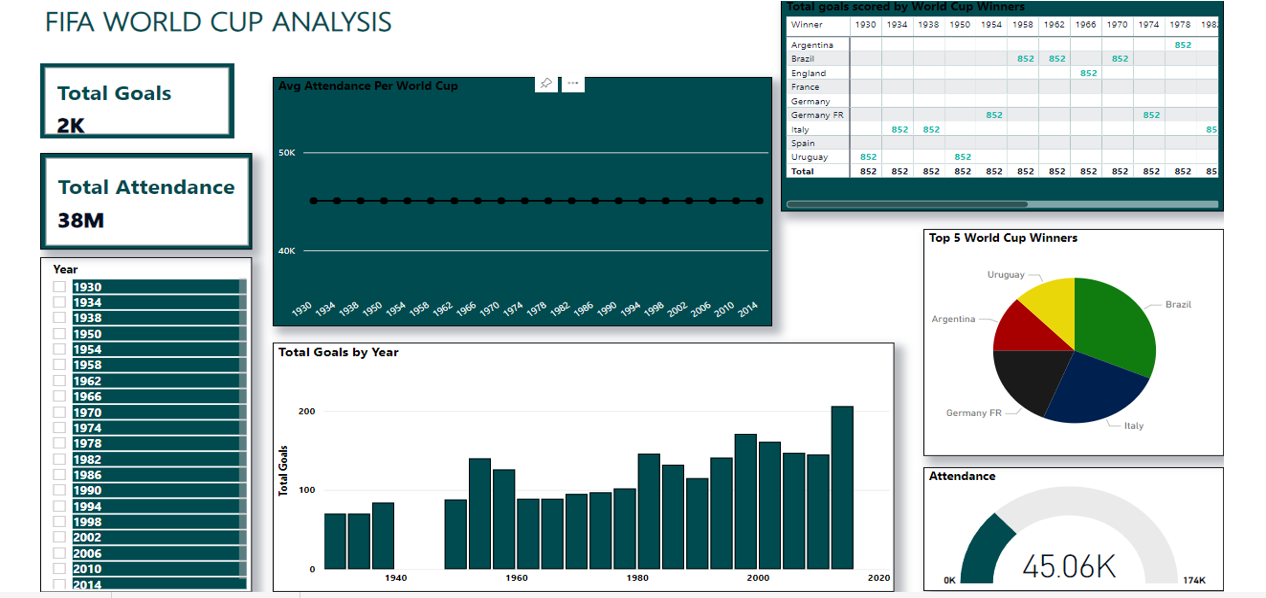

The page's visual inventory and layout, read from the dashboard file:
{"tool":"powerbi","page":{"name":"Page 1","canvas":[1280,720],"ordinal":0},"visuals":[{"type":"columnChart","fields":{"Y":["Sum(matches after cleaning.Total Goals)"],"Category":["matches after cleaning.YearOnly"]},"box":[251.5,417.7,672.2,302.4],"z":0},{"type":"slicer","fields":{"Values":["matches after cleaning.YearOnly"]},"box":[0,314.4,229.1,405.7],"z":1000},{"type":"lineChart","title":"Avg Attendance Per World Cup","fields":{"Category":["WorldCups.Year"],"Y":["Avg(matches after cleaning.Attendance)"]},"box":[251.5,95.8,540.4,302.4],"z":2000},{"type":"pieChart","title":"Top 5 World Cup Winners","fields":{"Category":["WorldCups.Winner"],"Y":["CountNonNull(WorldCups.Winner)"]},"box":[955.1,280,324.9,275.5],"z":3000},{"type":"pivotTable","title":"Total goals scored by World Cup Winners","fields":{"Values":["CountNonNull(matches after cleaning.Total Goals)"],"Rows":["WorldCups.Winner"],"Columns":["WorldCups.Year"]},"box":[800.9,0,479.1,259],"z":4000},{"type":"gauge","title":"Attendance","fields":{"Y":["Avg(matches after cleaning.Attendance)"],"MinValue":["Min(matches after cleaning.Attendance)"],"MaxValue":["Max(matches after cleaning.Attendance)"]},"box":[955.1,568.9,324.9,149.7],"z":5000},{"type":"cardVisual","fields":{"Data":["Sum(matches after cleaning.Total Goals)"]},"box":[0,79.3,209.6,91.3],"z":6000},{"type":"textbox","box":[0,0,589.8,89.8],"z":7000},{"type":"cardVisual","fields":{"Data":["Sum(matches after cleaning.Attendance)"]},"box":[0,188.6,229.1,116.8],"z":8000}]}

Visuals, with their boxes in screenshot pixels (x1, y1, x2, y2):
columnChart - Sum(matches after cleaning.Total Goals) x matches after cleaning.YearOnly: (x1=272, y1=338, x2=821, y2=585)
slicer - matches after cleaning.YearOnly: (x1=66, y1=254, x2=253, y2=585)
"Avg Attendance Per World Cup" lineChart: (x1=272, y1=75, x2=713, y2=322)
"Top 5 World Cup Winners" pieChart: (x1=847, y1=226, x2=1112, y2=451)
"Total goals scored by World Cup Winners" pivotTable: (x1=721, y1=0, x2=1112, y2=208)
"Attendance" gauge: (x1=847, y1=462, x2=1112, y2=584)
cardVisual - Sum(matches after cleaning.Total Goals): (x1=66, y1=62, x2=237, y2=136)
textbox: (x1=66, y1=0, x2=548, y2=70)
cardVisual - Sum(matches after cleaning.Attendance): (x1=66, y1=151, x2=253, y2=246)
